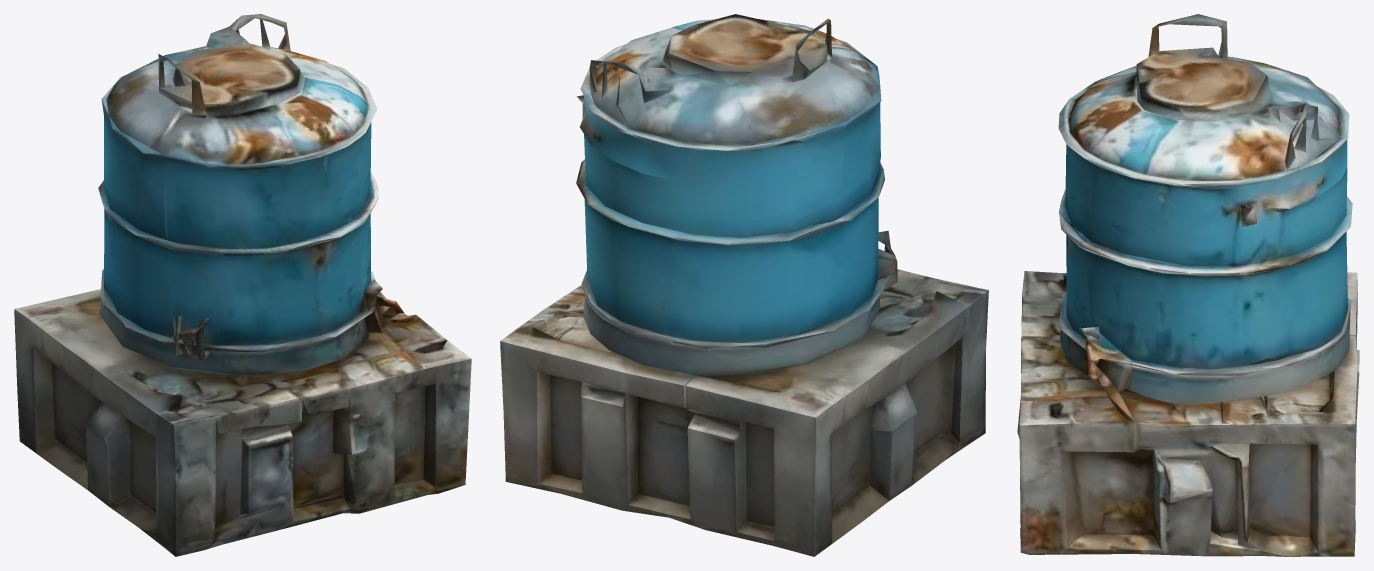
Rendered from m2WaterTank.glb.
The picture shows the model from 3 angles, left to right: view 1: azimuth 30°, elevation 25°; view 2: azimuth 150°, elevation 25°; view 3: azimuth 270°, elevation 25°; orthographic projection. The views are drawn at different scales.
Parts seen in each view (by area): view 1: model; view 2: model; view 3: model.
Part boxes in pixels (box(x1,y1,x2,y2)): model: box(14, 14, 471, 556); model: box(500, 14, 988, 556); model: box(1017, 14, 1359, 556).
Size of the model in its own units: 1.43 by 1.89 by 1.35.
1 material, 1 textured.
